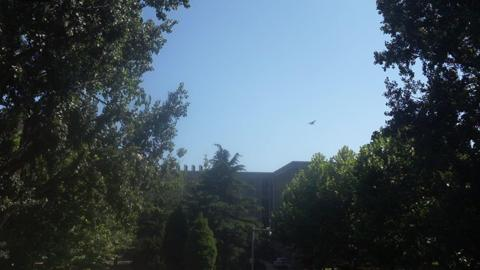UAV: (308, 120, 317, 126)
